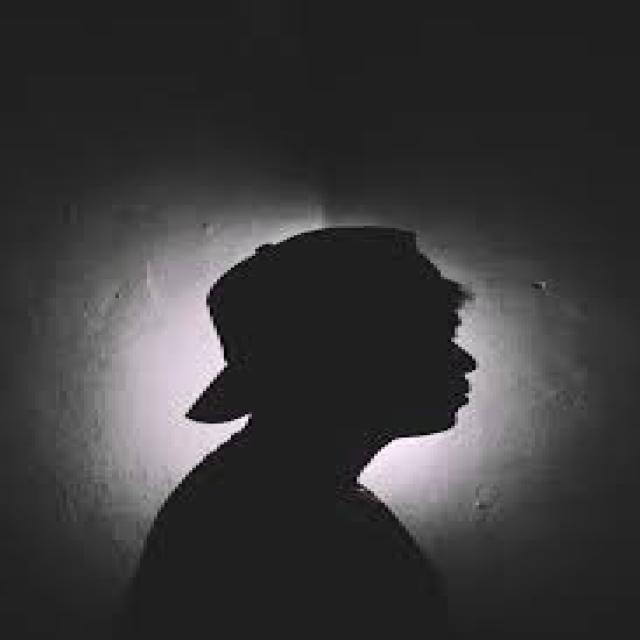cap: (188, 228, 490, 445)
